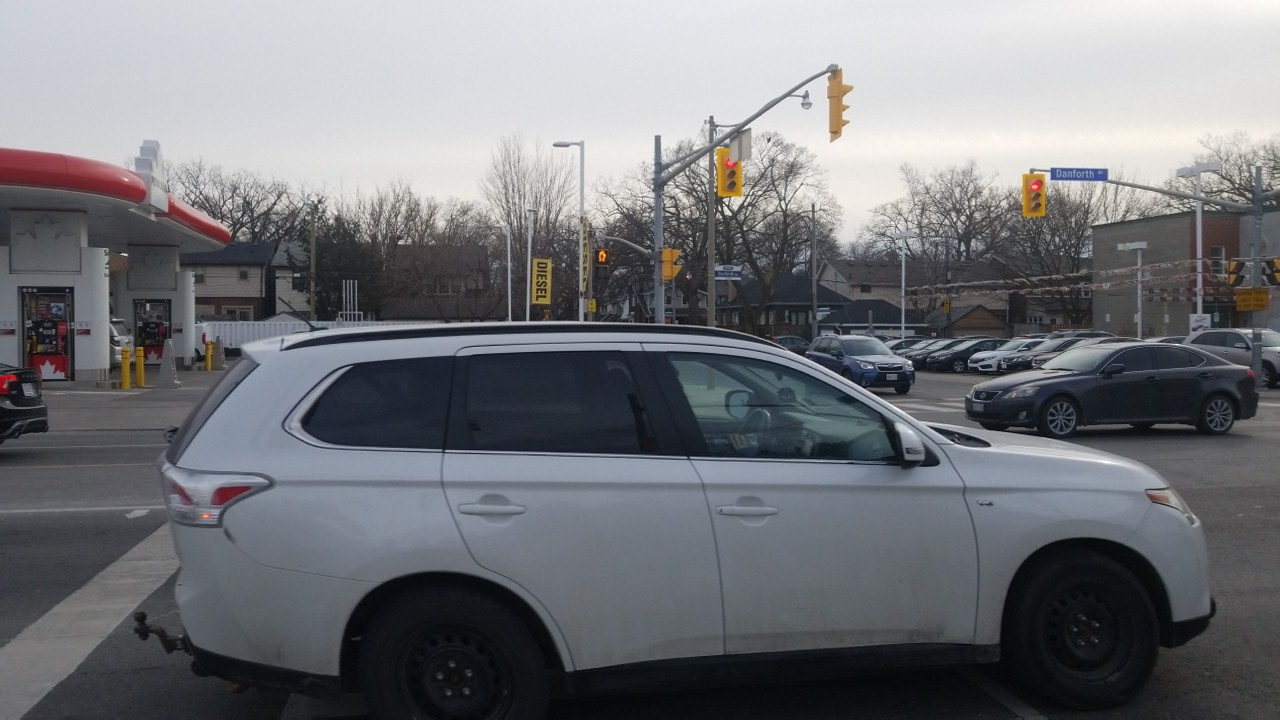light: (592, 246, 610, 281)
